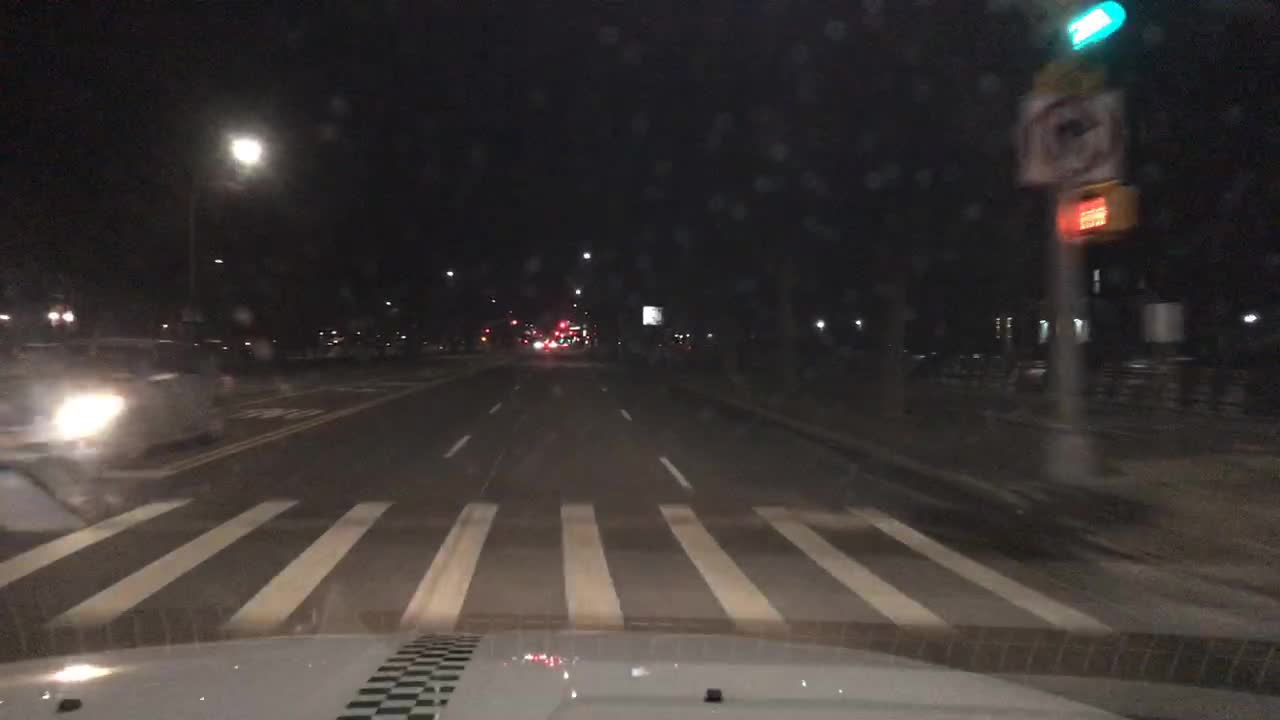car: (0, 340, 236, 477), (530, 333, 557, 349), (555, 334, 572, 348)
traffic light: (1053, 184, 1144, 240), (1064, 0, 1128, 51), (555, 317, 566, 329)
traffic sign: (1013, 90, 1125, 182), (641, 304, 665, 328)
